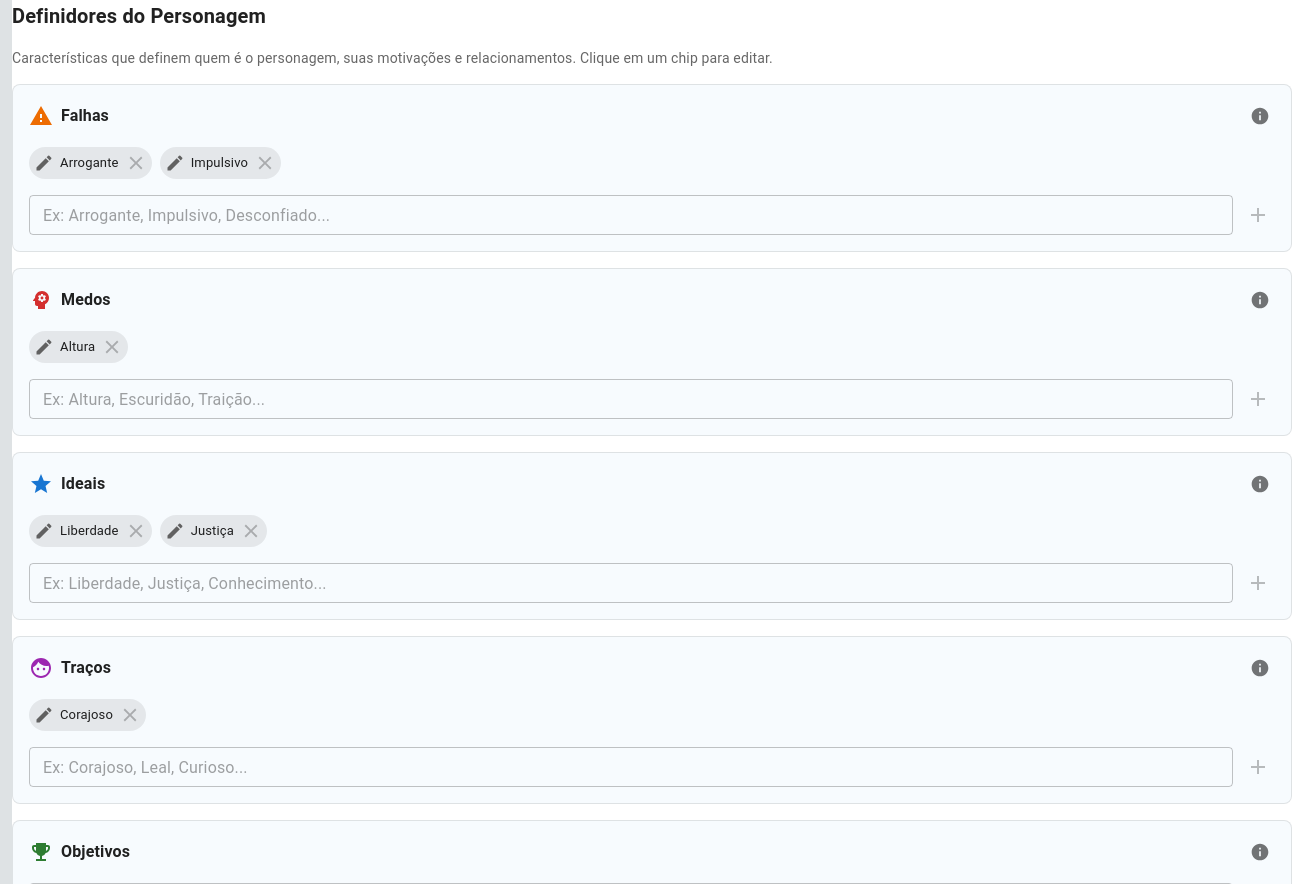
Test case: PersonalitySection › permite editar chip clicando nele
This screenshot has width=1292, height=884.
Click the button "Arrogante" at (90, 163), box [29,147,152,179]
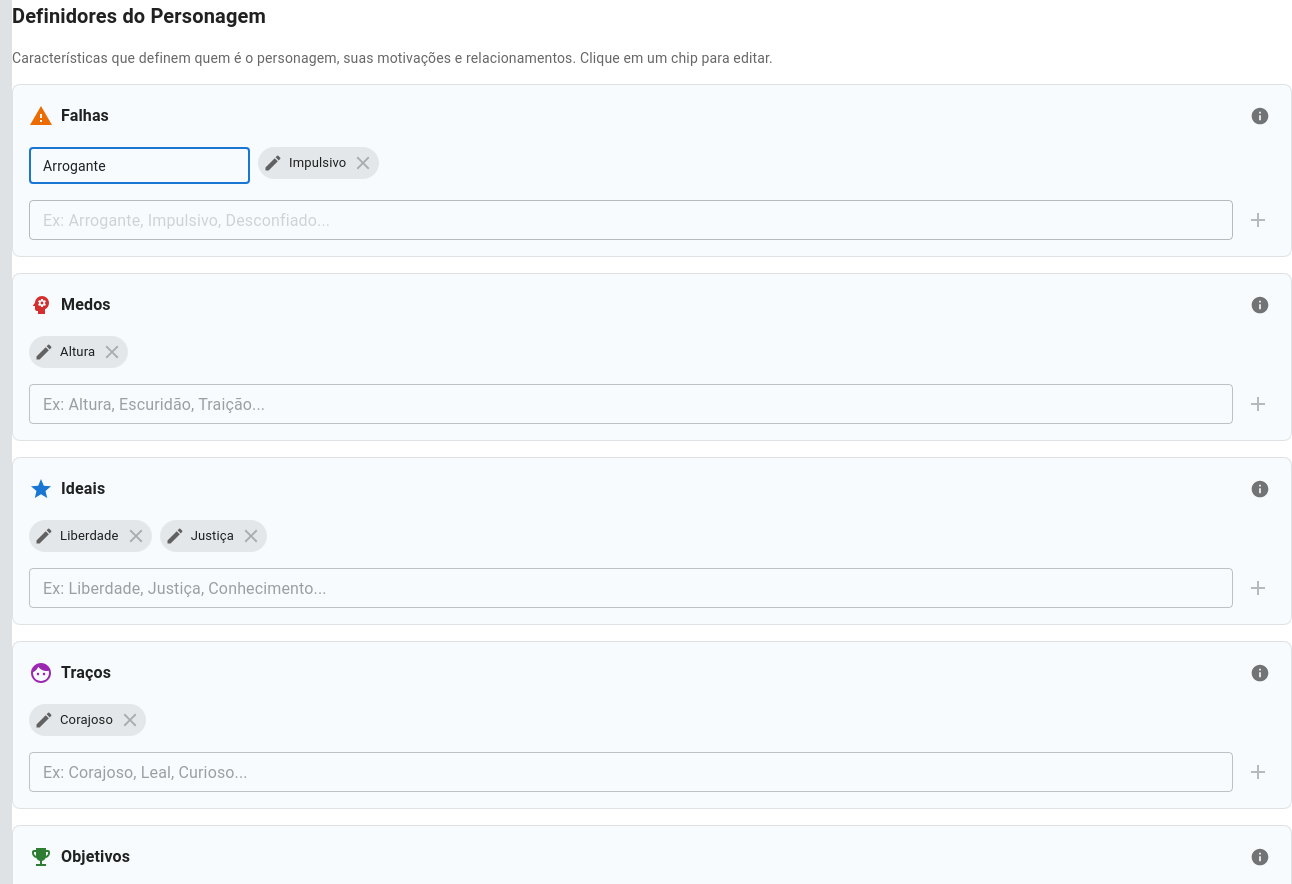
Expected: the field showing "Arrogante" is shown, [29,147,250,184]
